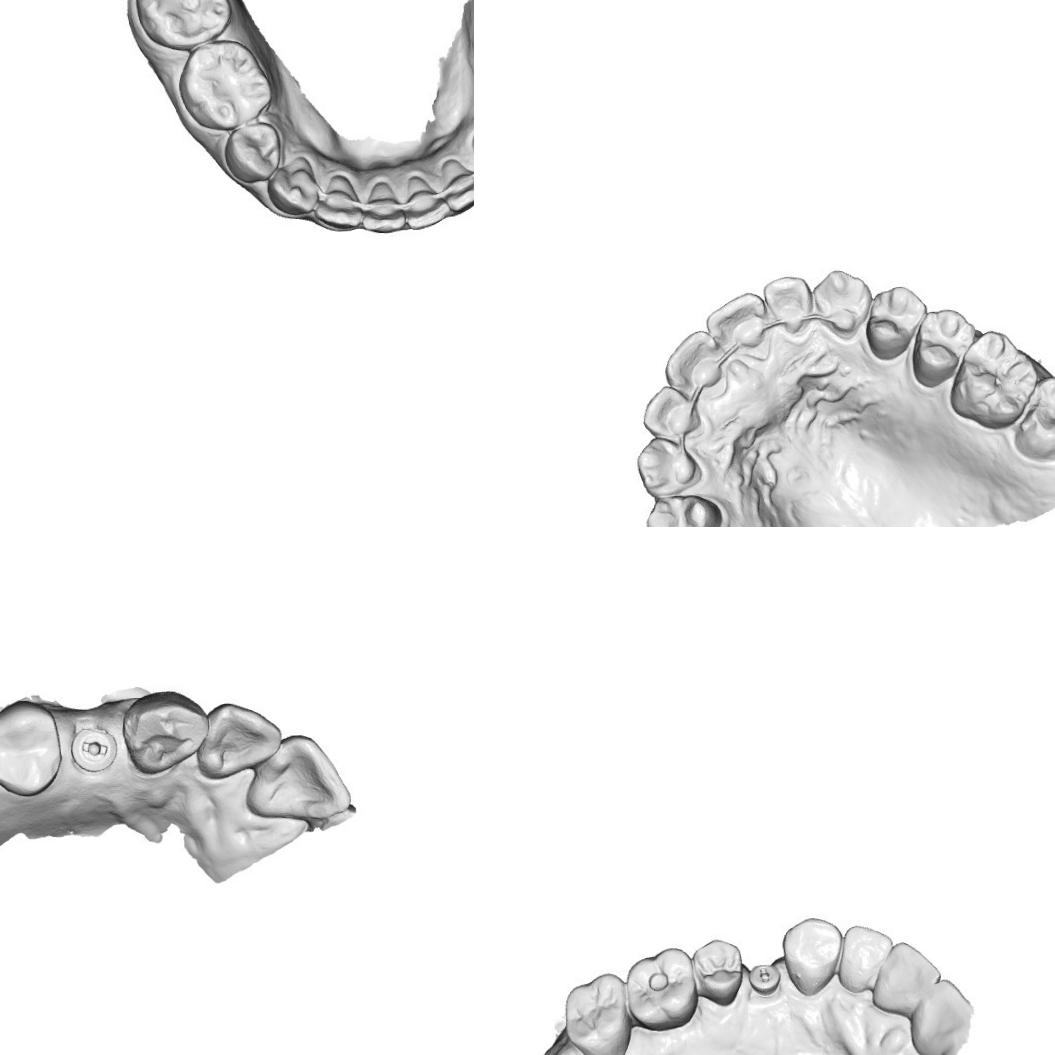canine: (120, 685, 210, 777), (778, 914, 846, 1001), (637, 439, 703, 498), (816, 266, 873, 334), (268, 156, 317, 212)
implant_minus: (68, 720, 122, 777), (747, 961, 782, 1000)
incisor: (246, 728, 350, 832), (198, 700, 282, 776), (903, 975, 978, 1055), (867, 939, 945, 1015), (836, 923, 895, 995), (664, 331, 730, 392), (707, 291, 773, 351), (764, 274, 814, 336), (640, 386, 701, 436), (364, 184, 408, 238), (406, 176, 448, 230), (318, 178, 360, 228), (442, 157, 474, 209)
molar: (952, 328, 1042, 426), (176, 40, 272, 130), (620, 946, 702, 1034), (561, 971, 633, 1055), (133, 0, 233, 54), (1018, 373, 1055, 463)
premolar: (0, 698, 64, 801), (912, 305, 978, 388), (864, 282, 926, 360), (218, 120, 286, 181), (690, 936, 744, 1010), (648, 485, 723, 527)
